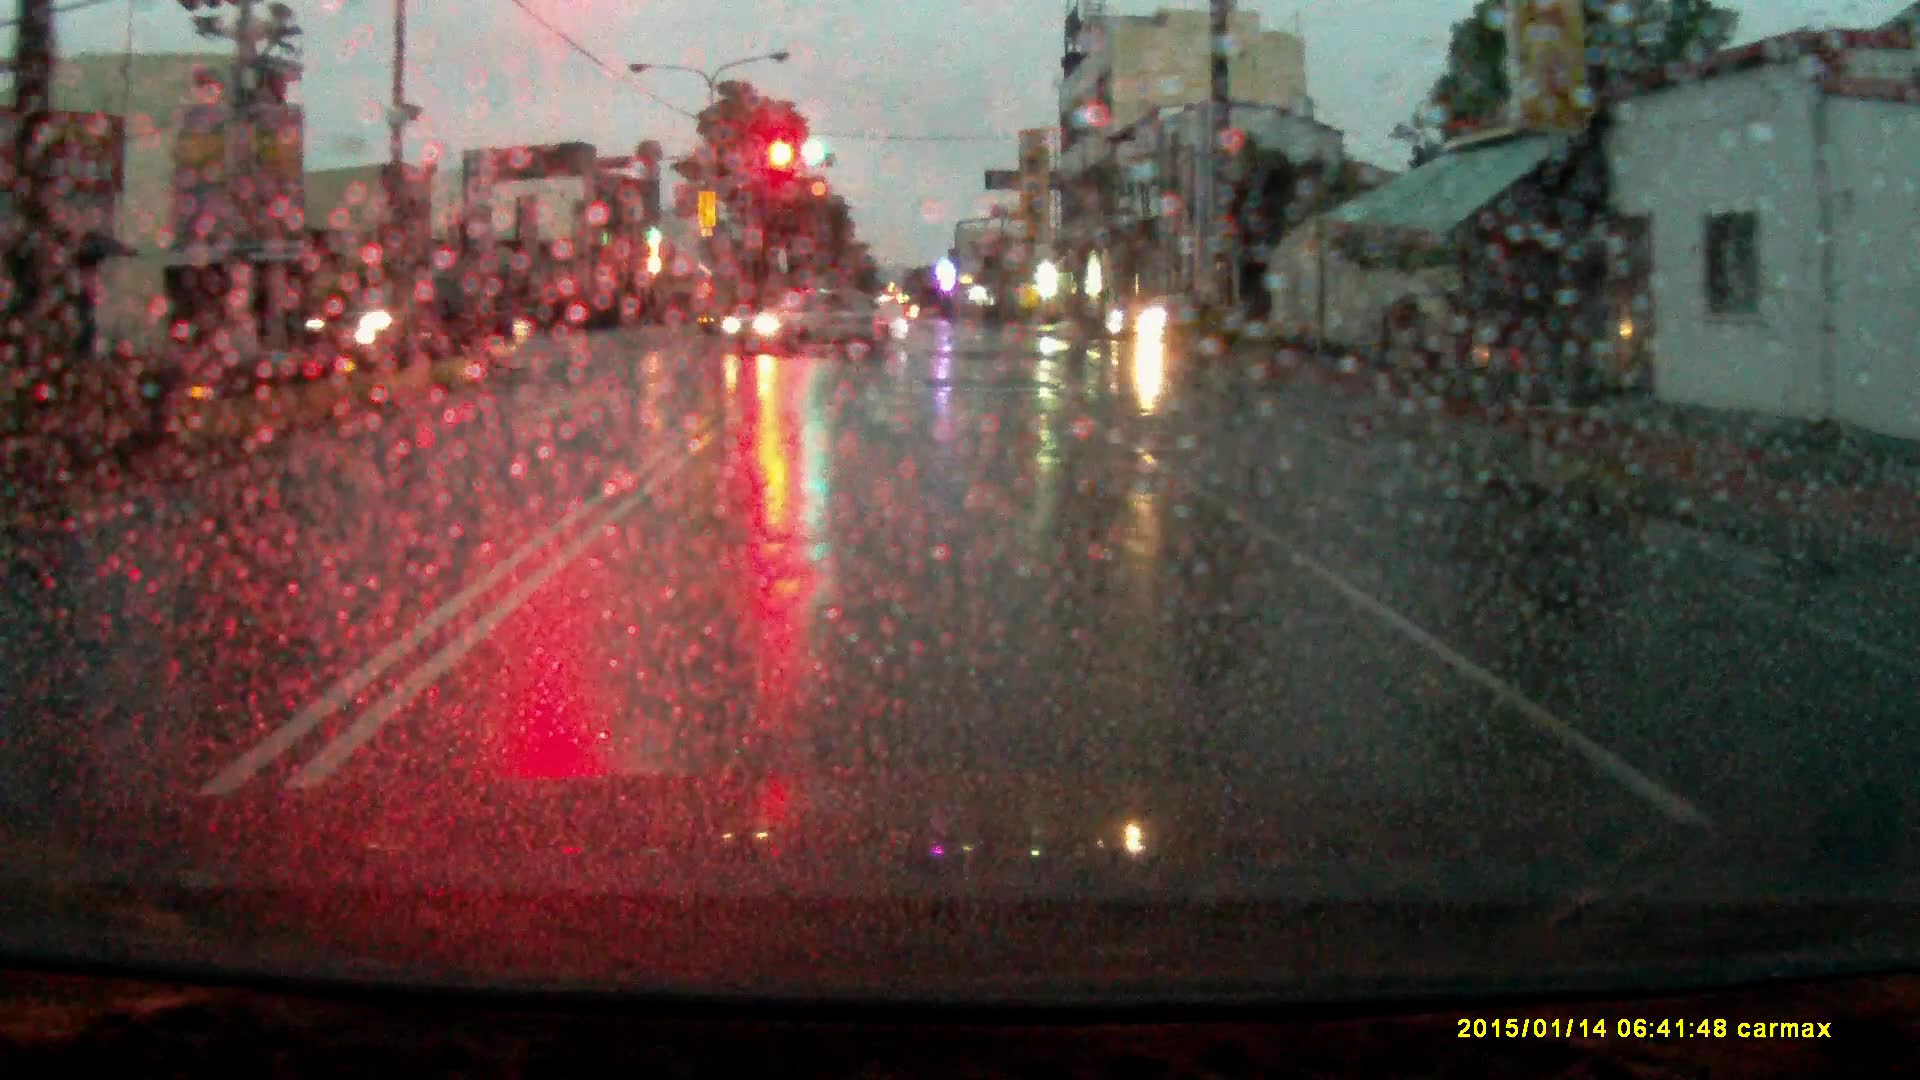vehicle: (291, 274, 531, 376), (717, 289, 911, 361), (1106, 291, 1254, 342)
